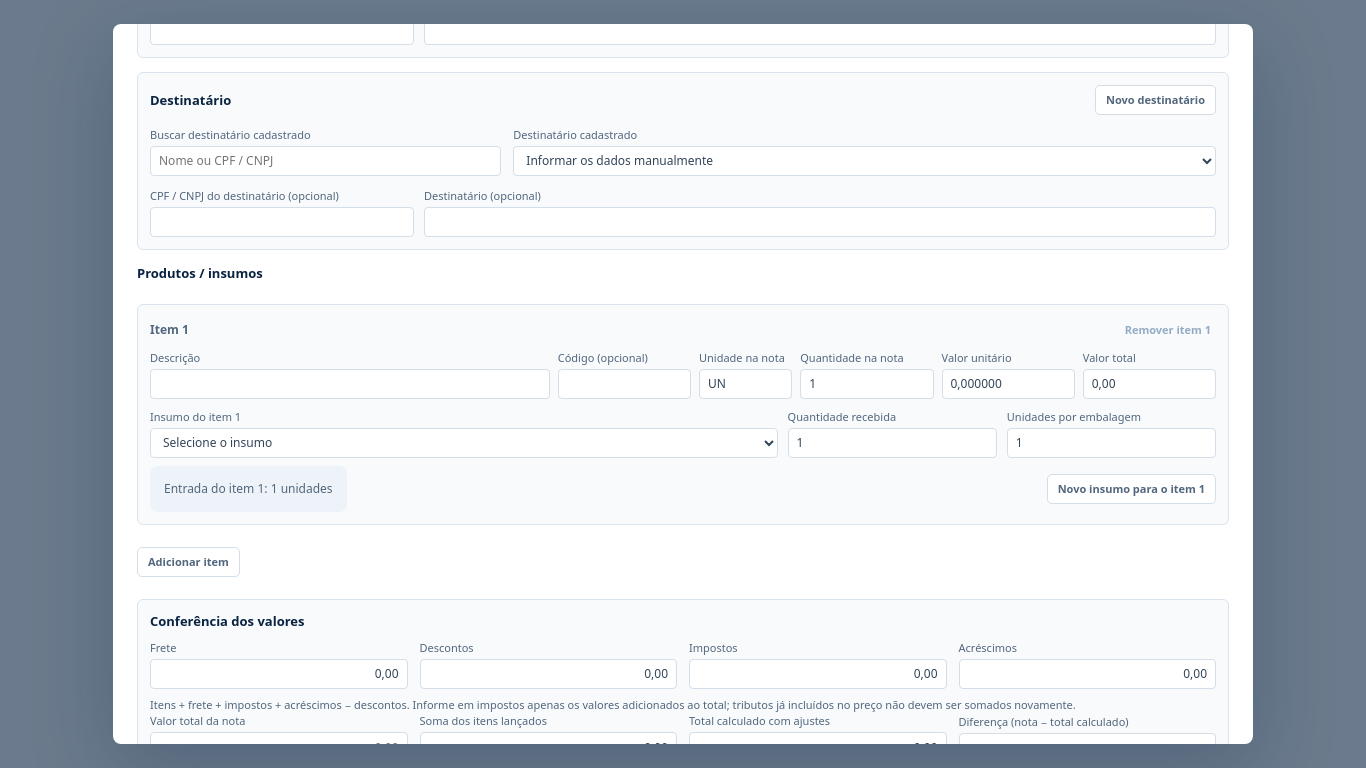
Test: fills registered suppliers and recipients by document or selection without losing invoice lines
The width and height of the screenshot is (1366, 768).
(page scrolled)
Type "Coca" into the field named "Descrição do item 1" at (350, 384), box [150,369,550,399]
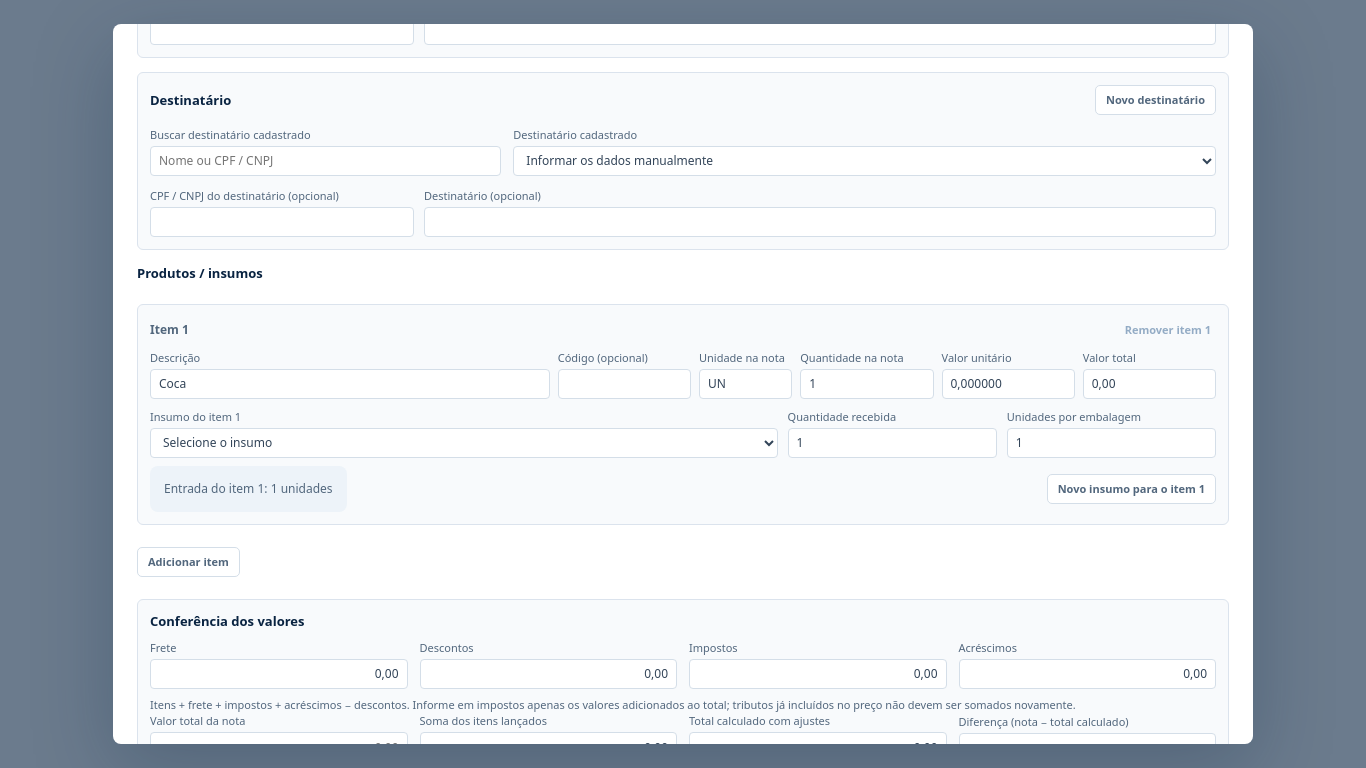
Type "19131243000197" into the field labelled "CPF / CNPJ do fornecedor" at (282, 30), box [150,15,414,45]
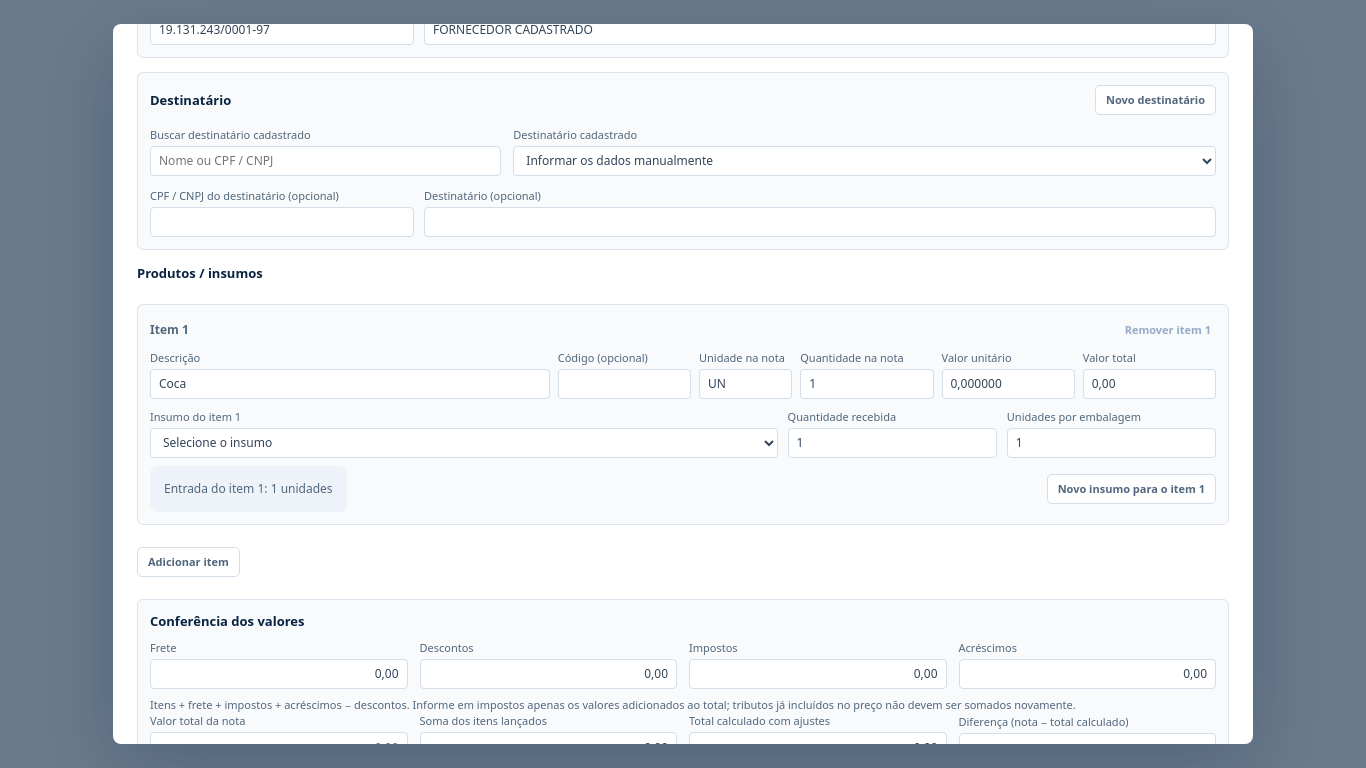
Result: the field labelled "Nome / razão social do fornecedor" holds "FORNECEDOR CADASTRADO" at [424,24,1216,45]
Select "FILIAL DOIS · 41.817.328/0001-09" in the dropdown labelled "Destinatário cadastrado" at (865, 161), box [513,146,1216,176]
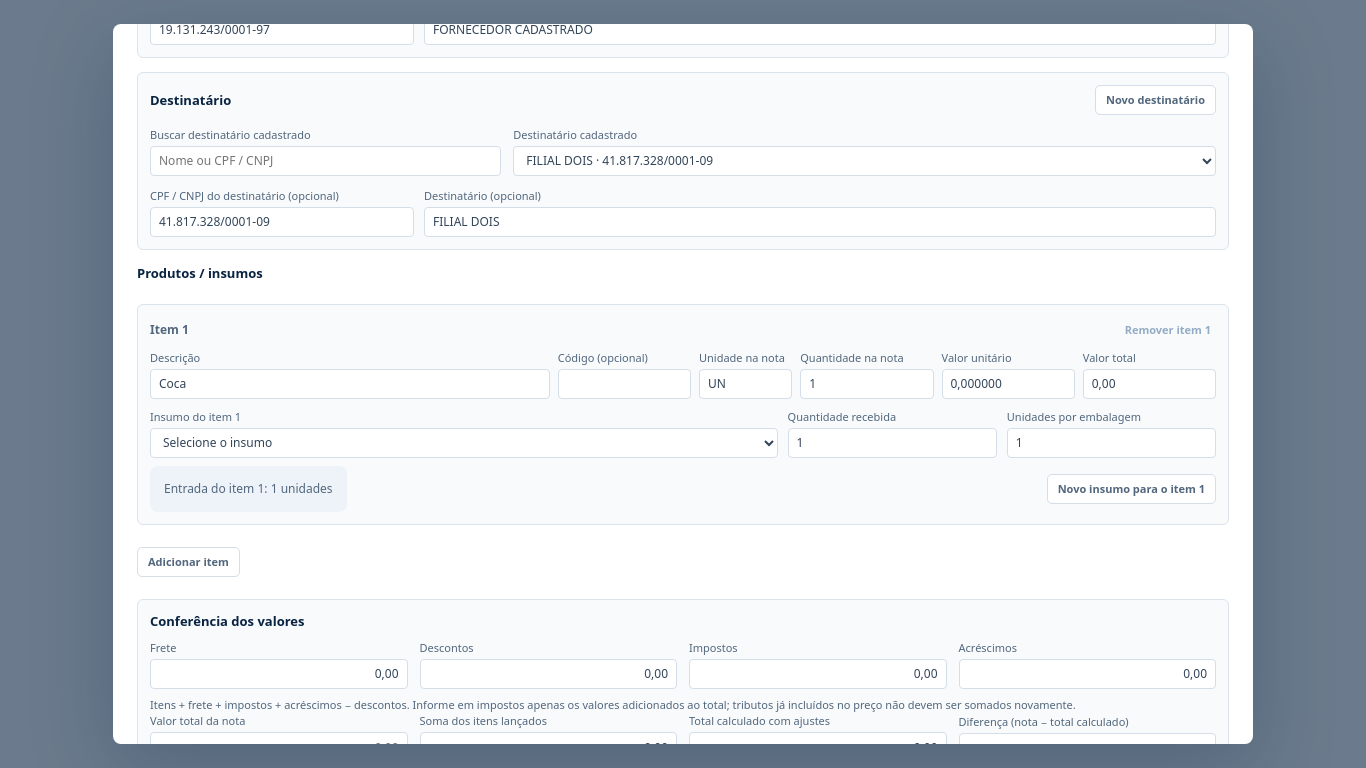
Result: the field labelled "Destinatário (opcional)" holds "FILIAL DOIS" at [424,207,1216,237]
Result: the field labelled "CPF / CNPJ do destinatário (opcional)" holds "41.817.328/0001-09" at [150,207,414,237]
